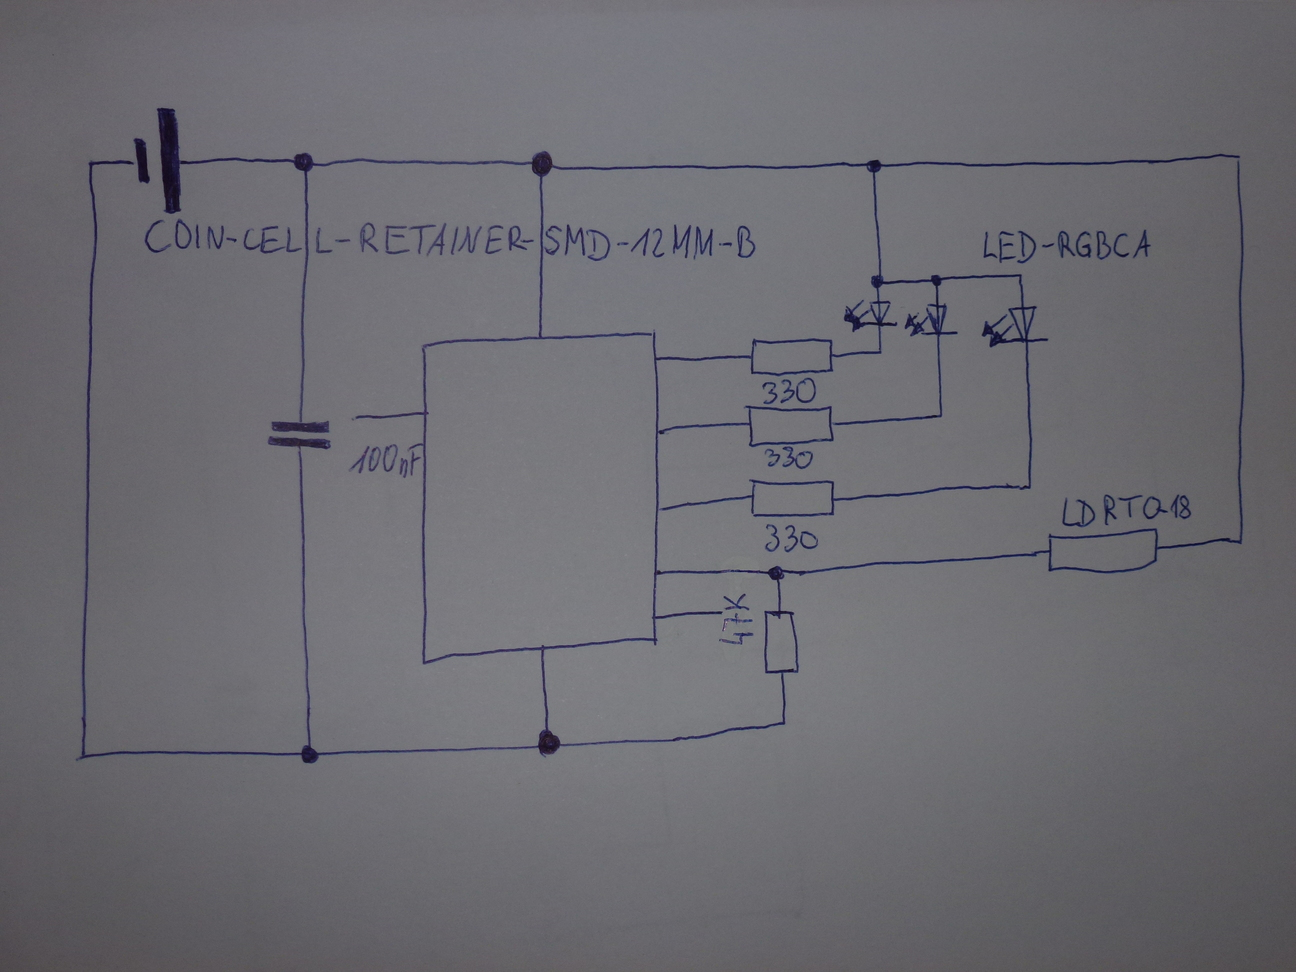capacitor.unpolarized: (265, 415, 338, 456)
diode.light_emitting: (978, 303, 1052, 350), (841, 295, 900, 334), (902, 301, 962, 339)
integrated_circuit: (415, 320, 668, 668)
junction: (524, 145, 563, 183), (532, 727, 566, 760), (288, 146, 323, 178), (297, 742, 322, 767), (765, 562, 790, 585), (864, 156, 885, 175), (868, 272, 887, 288), (1232, 534, 1250, 549), (74, 748, 91, 765), (927, 271, 944, 286), (1230, 148, 1245, 165), (84, 156, 99, 173), (777, 714, 791, 729), (1021, 478, 1035, 494), (874, 345, 885, 356), (1014, 270, 1026, 281), (935, 410, 945, 420)
resistor: (1043, 525, 1165, 578), (740, 400, 834, 450), (748, 474, 835, 518), (750, 335, 833, 377), (760, 606, 801, 676)
text: (141, 215, 759, 266), (980, 226, 1153, 262), (1058, 492, 1192, 529), (346, 439, 423, 480), (715, 590, 755, 648), (757, 375, 820, 407), (762, 522, 821, 555), (761, 443, 816, 471)
voltage.dc: (130, 104, 189, 215)
